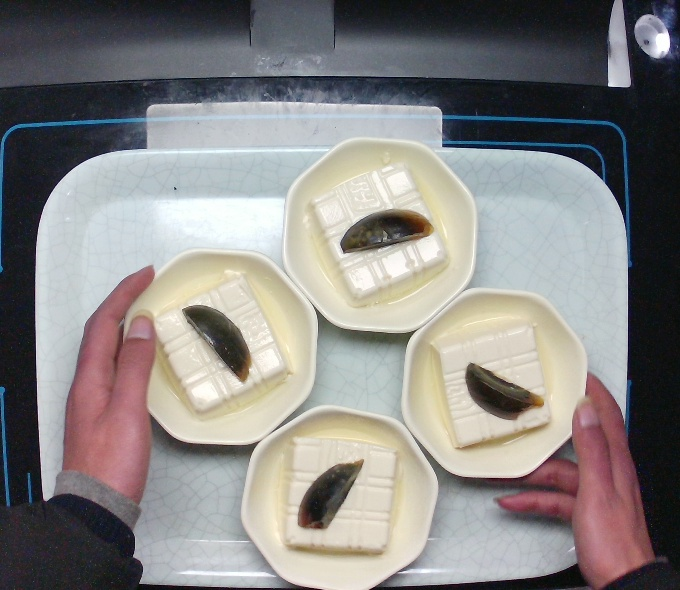wcq-PiDanDouFu: (305, 157, 453, 312), (143, 275, 295, 418), (422, 312, 555, 450), (276, 425, 402, 561)
